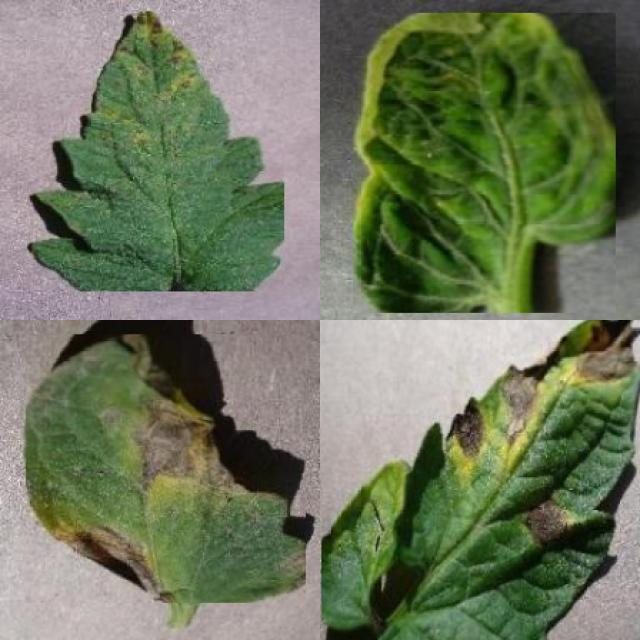Early Blight: (321, 320, 640, 640), (26, 334, 305, 602)
Septoria: (28, 12, 285, 292)
Yellow Leaf Curl Virus: (354, 13, 616, 313)
